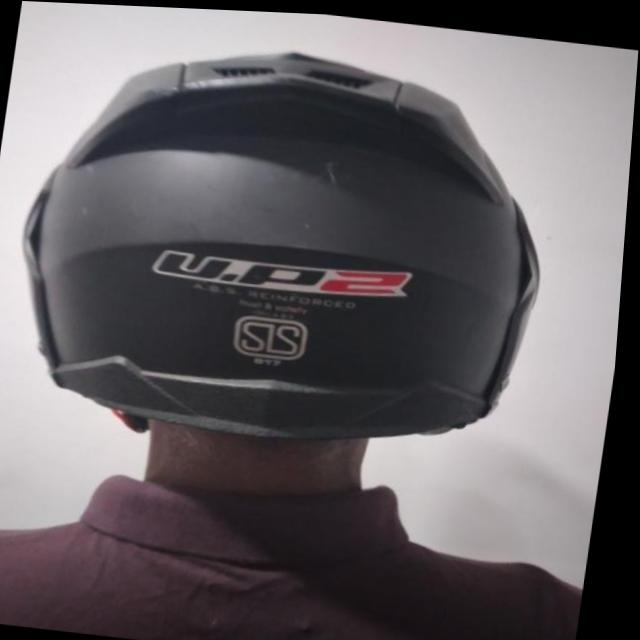helmet: (0, 18, 570, 480)
